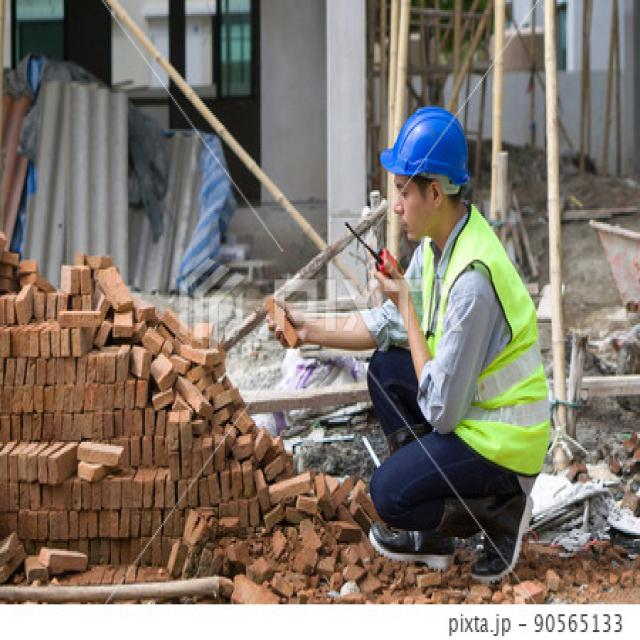helmet: (378, 98, 474, 195)
no-goggles: (386, 170, 429, 204)
vest: (419, 204, 557, 484)
